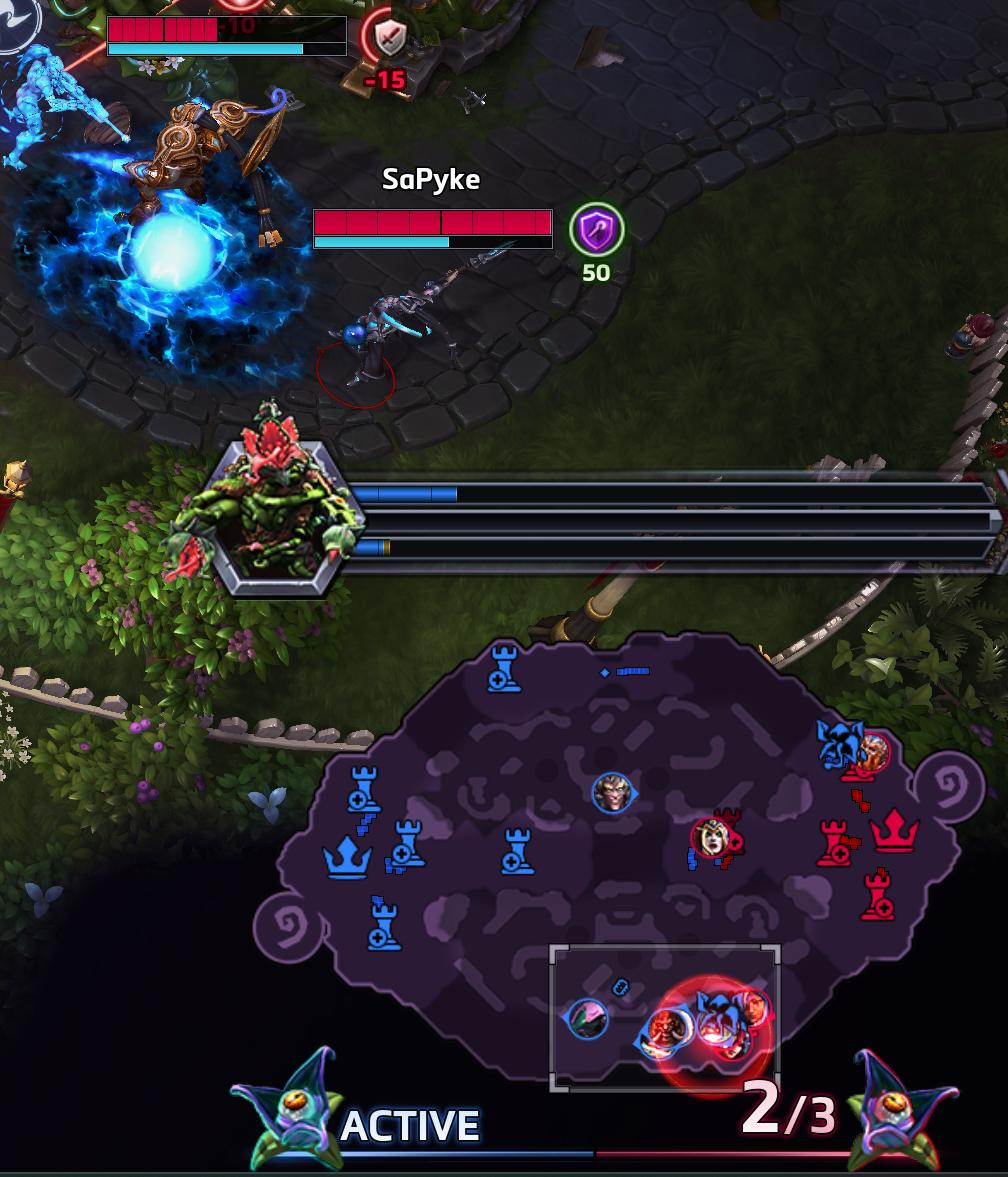blue player: (634, 1004, 687, 1060), (816, 718, 865, 771), (561, 996, 606, 1040), (591, 771, 633, 813)
red player: (690, 816, 734, 859), (854, 731, 891, 775)
